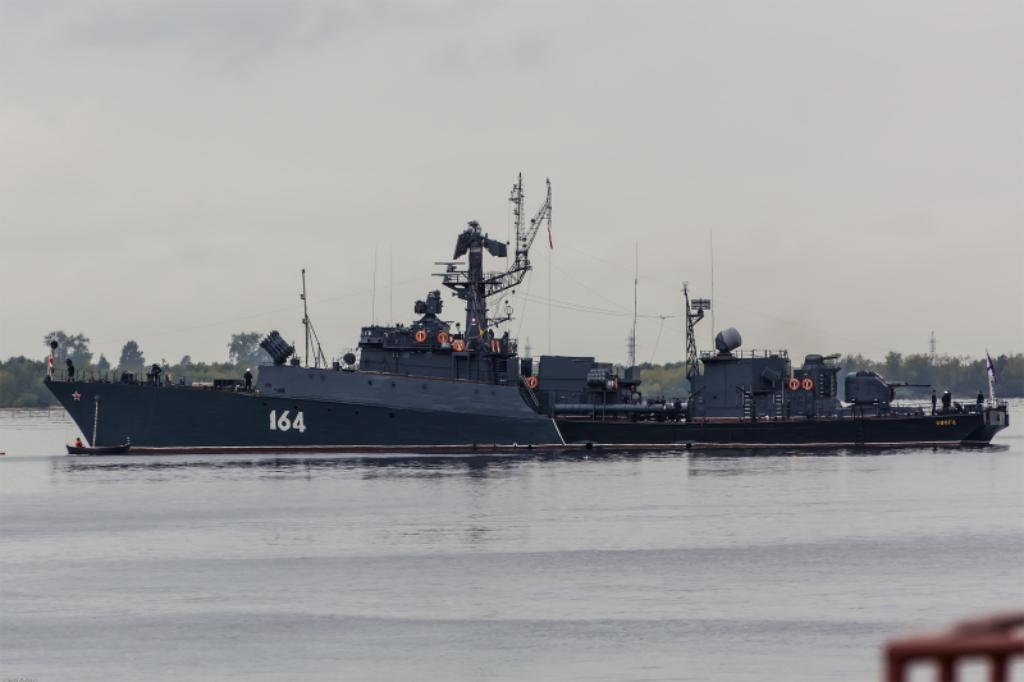Warship: (44, 167, 1014, 454)
